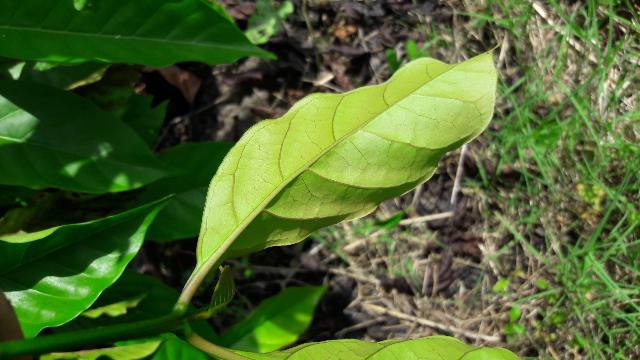healthy: (199, 56, 493, 269)
